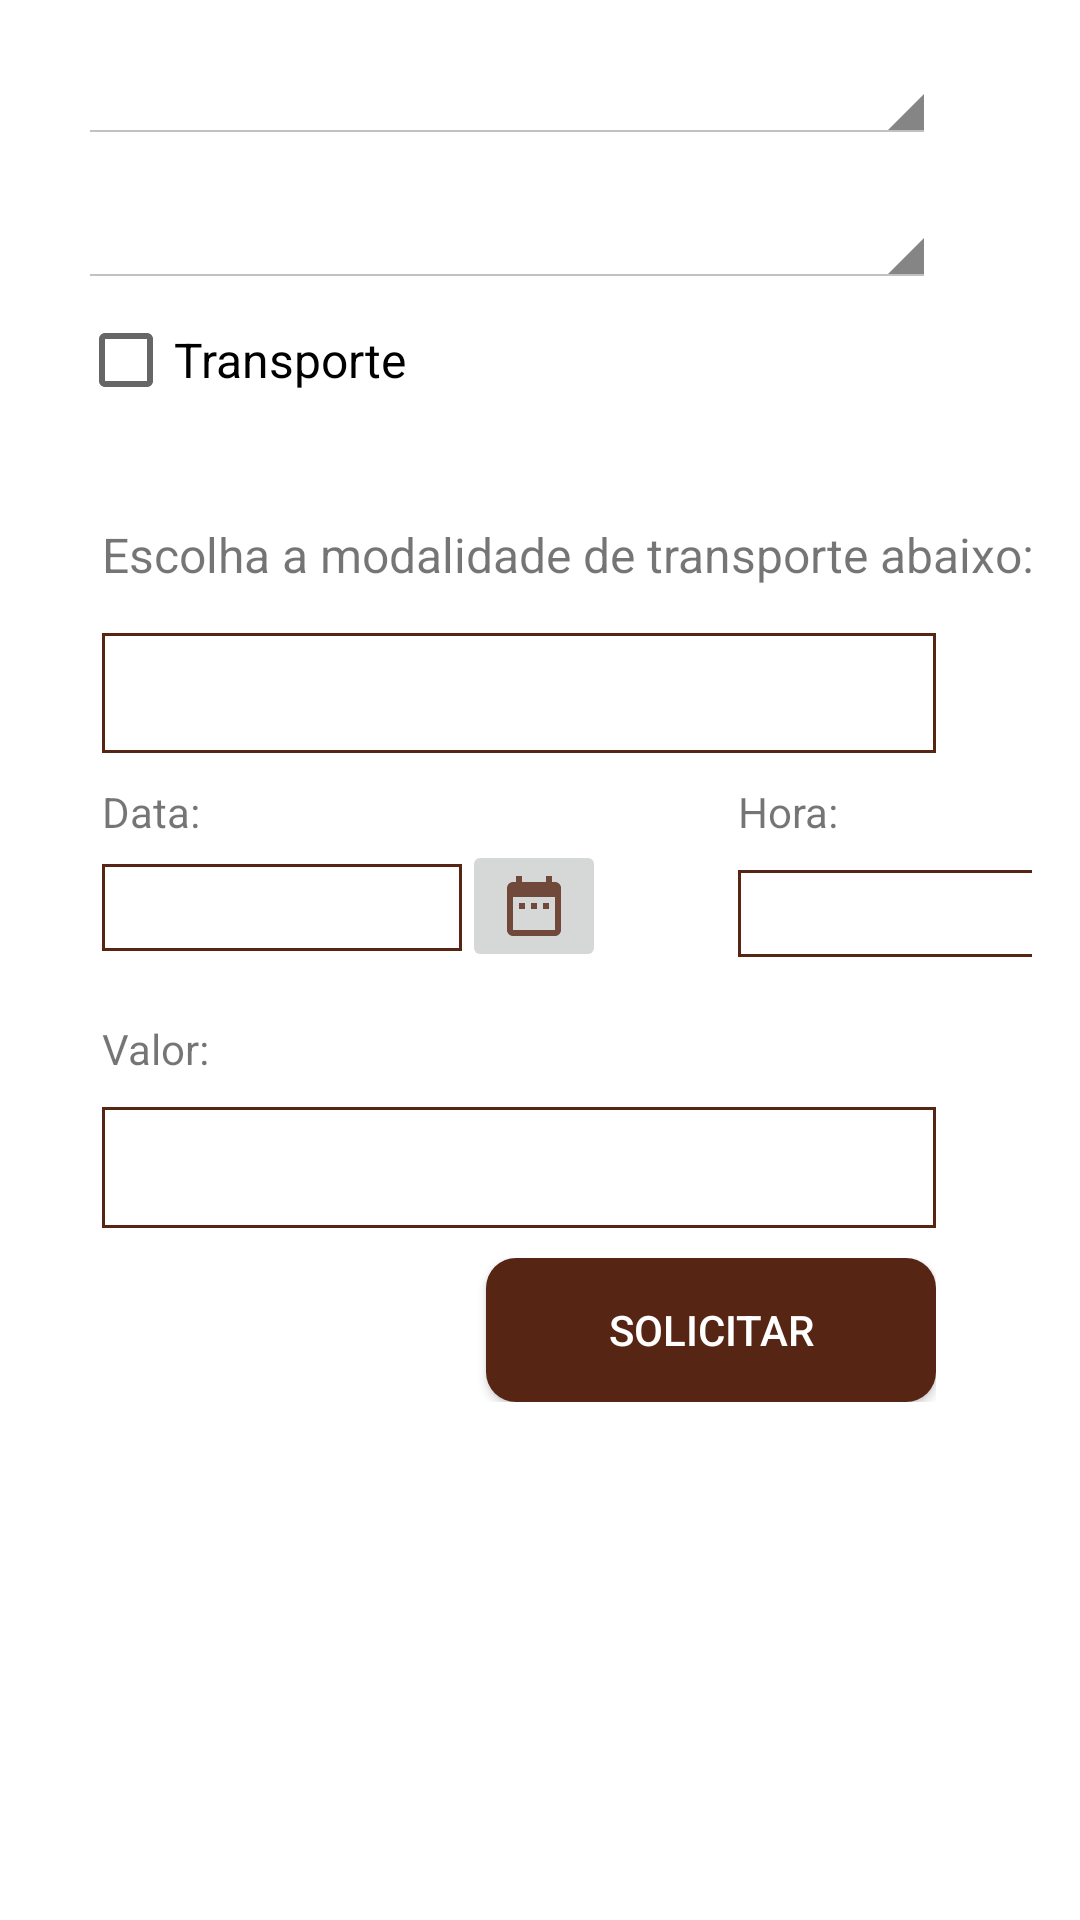

Where icons sit on this 1080px x 1920px app screen, as (x1, y1, x2, y2):
calendario: (474, 858, 594, 954)
